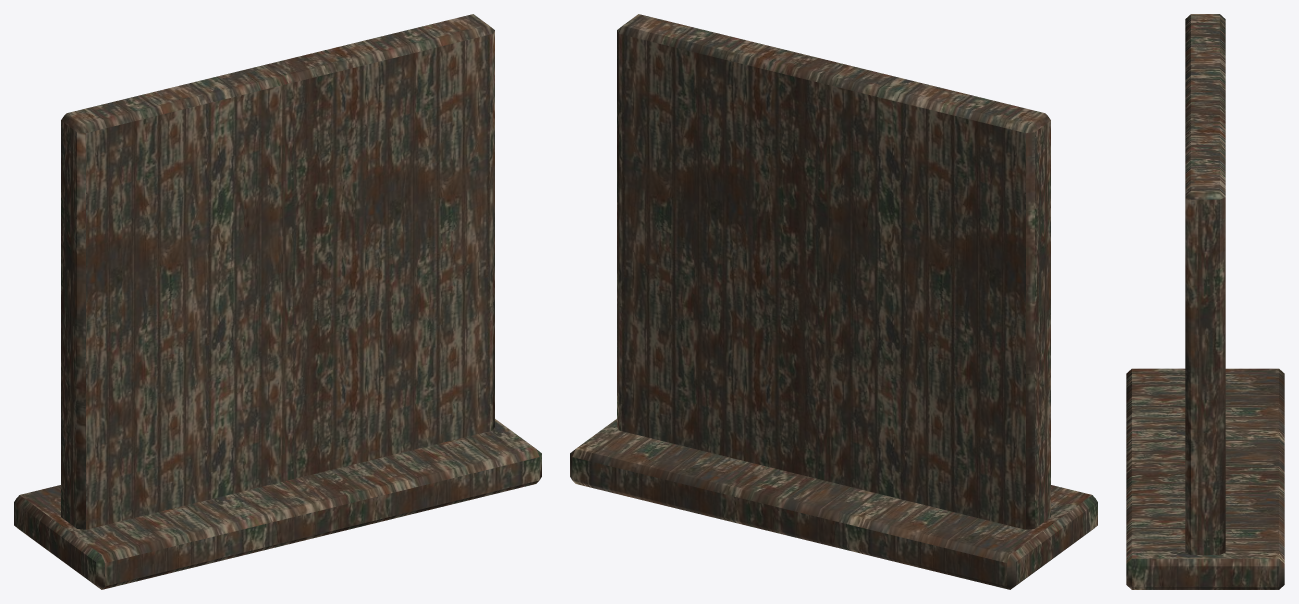
File: prop_weapon_rack.glb
3 renders of one model, left to right at view 1: azimuth 30°, elevation 25°; view 2: azimuth 150°, elevation 25°; view 3: azimuth 270°, elevation 25°, orthographic. The views are drawn at different scales.
Parts seen in each view (by area): view 1: PROP_WeaponRack; view 2: PROP_WeaponRack; view 3: PROP_WeaponRack.
Part boxes in pixels (<box>): PROP_WeaponRack: <box>14,14,541,589</box>; PROP_WeaponRack: <box>570,14,1097,589</box>; PROP_WeaponRack: <box>1126,14,1284,589</box>.
Size of the model in its own units: 1.6 by 1.5 by 0.55.
Materials: 1 (1 with a texture image).
